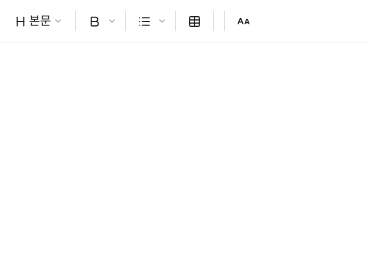
Test: TipTapMenuBar 표 행/열 편집 › 명령 실행 후 메뉴가 닫힌다
The image size is (368, 262).
Click the button named "표 행/열 편집": (195, 21) [182,8,207,34]
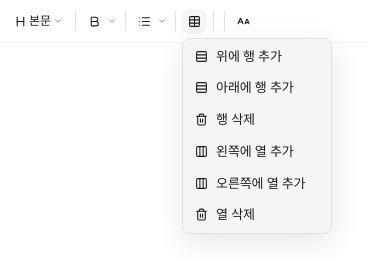
Click the menu item "위에 행 추가": (257, 56) [183,40,331,72]
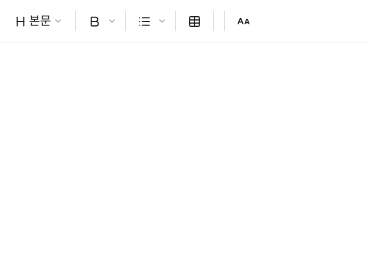
Now the menu item "위에 행 추가" is gone
